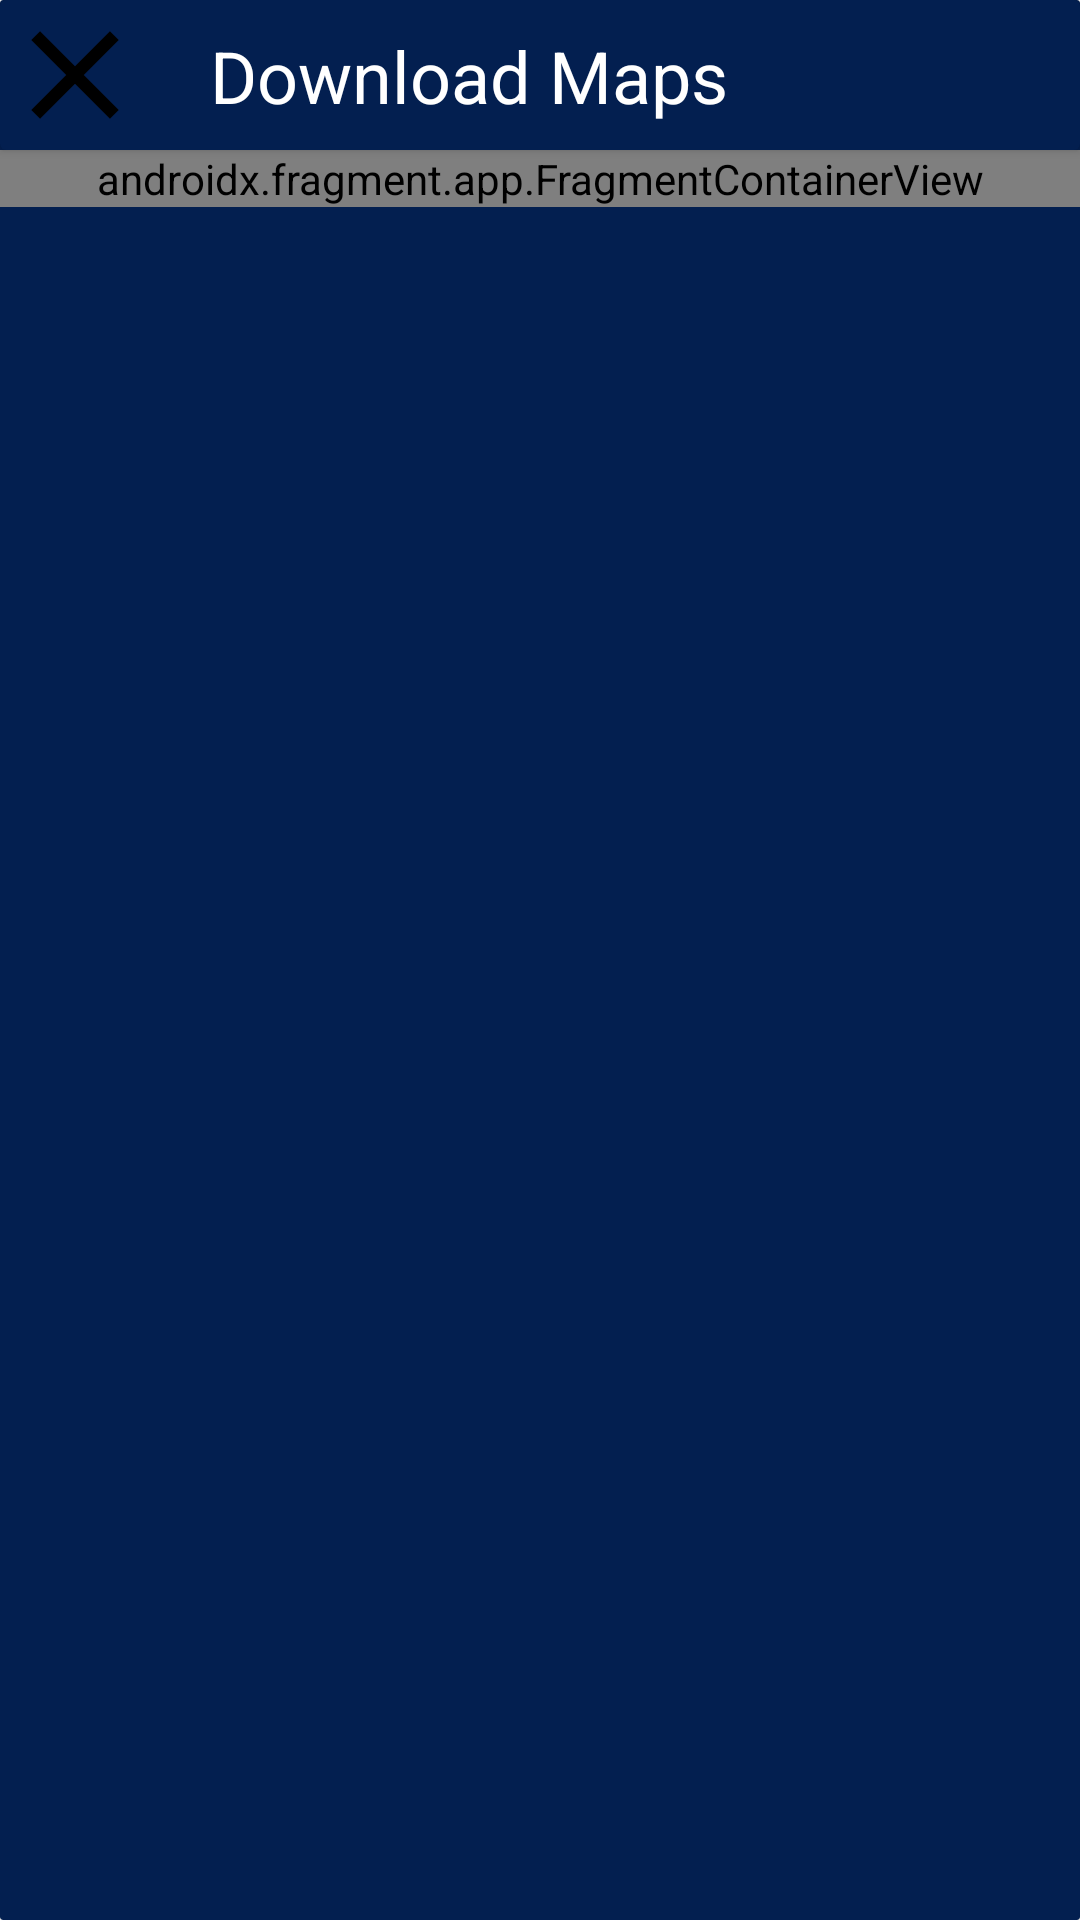

Icon bounding boxes for this 1080 × 1920 phone screenshot, format (x1, y1, x2, y2):
close: (0, 0, 118, 119)
